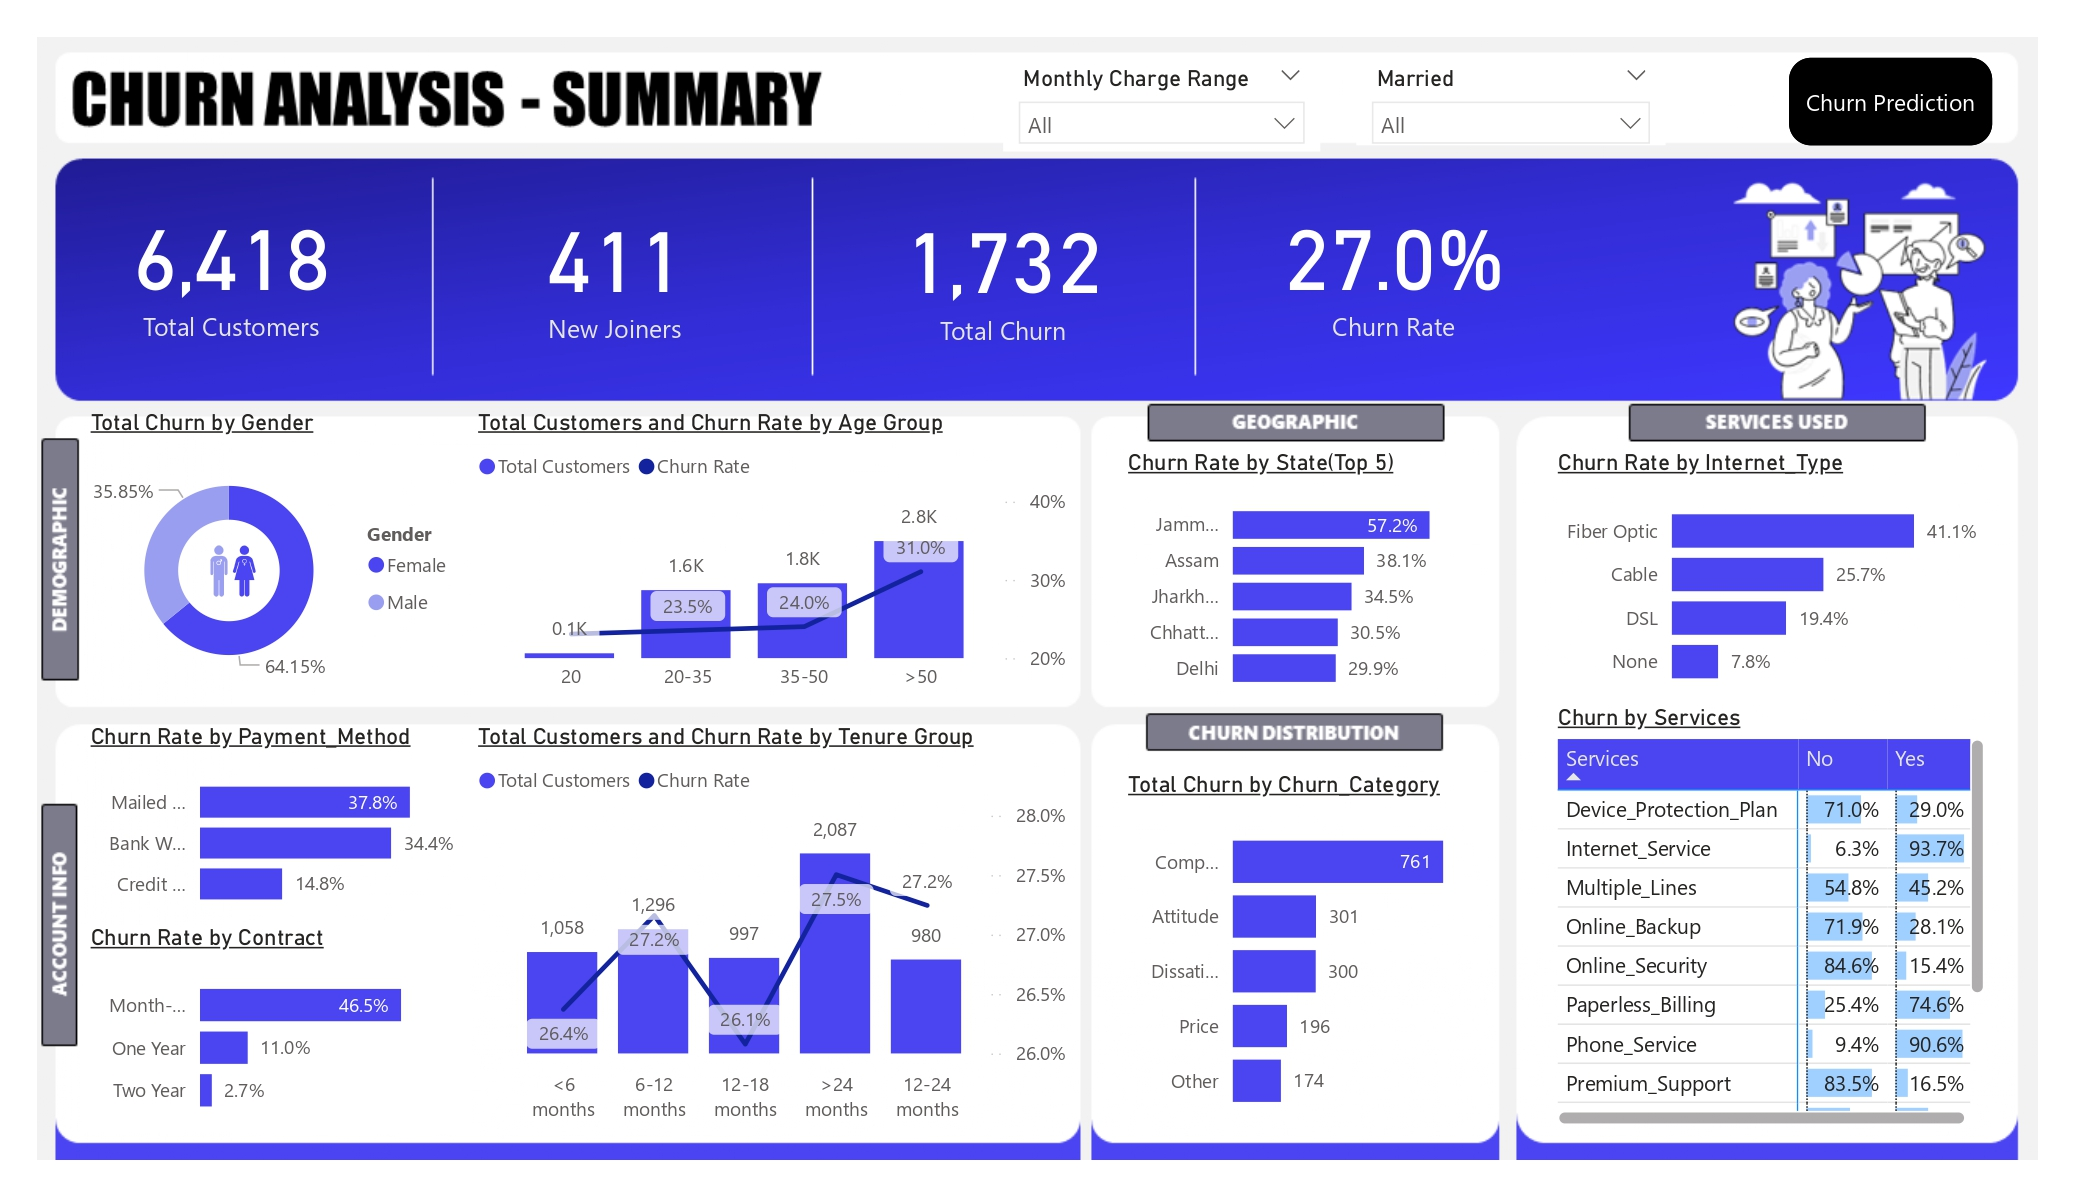

What the dashboard file says about the page in this screenshot:
{"tool":"powerbi","page":{"name":"Summary","canvas":[1280,720],"ordinal":0},"visuals":[{"type":"card","fields":{"Values":["tbl_Measure.Total Customers"]},"box":[0,75.6,247.7,141.3],"z":0},{"type":"card","fields":{"Values":["tbl_Measure.New Joiners"]},"box":[260.3,77,218.3,141.3],"z":1000},{"type":"card","fields":{"Values":["tbl_Measure.Total Churn"]},"box":[520.5,72.8,194.5,151.1],"z":2000},{"type":"card","fields":{"Values":["select","tbl_Measure.Churn Rate"]},"box":[768.2,71.4,200.1,151.1],"z":3000},{"type":"donutChart","fields":{"Category":["prod_Churn.Gender"],"Y":["tbl_Measure.Total Churn"]},"box":[29.4,237.9,247.7,188.9],"z":4000},{"type":"lineStackedColumnComboChart","fields":{"Category":["mapping_AgeGrp.Age Group"],"Y":["tbl_Measure.Total Customers"],"Y2":["tbl_Measure.Churn Rate"]},"box":[277,237.9,386.2,188.9],"z":5000},{"type":"clusteredBarChart","fields":{"Category":["prod_Churn.Payment_Method"],"Y":["tbl_Measure.Churn Rate"]},"box":[29.4,439.4,247.7,128.7],"z":6000},{"type":"clusteredBarChart","fields":{"Category":["prod_Churn.Contract"],"Y":["tbl_Measure.Churn Rate"]},"box":[29.4,568.1,247.7,132.9],"z":7000},{"type":"lineStackedColumnComboChart","fields":{"Category":["mapping_TenureGrp.Tenure Group"],"Y":["tbl_Measure.Total Customers"],"Y2":["tbl_Measure.Churn Rate"]},"box":[277,439.4,386.2,261.7],"z":8000},{"type":"clusteredBarChart","title":"Churn Rate by State(Top 5)","fields":{"Category":["prod_Churn.State"],"Y":["tbl_Measure.Churn Rate"]},"box":[692.6,264.5,236.5,162.3],"z":9000},{"type":"clusteredBarChart","fields":{"Category":["prod_Churn.Churn_Category"],"Y":["tbl_Measure.Total Churn"]},"box":[692.6,470.1,236.5,230.9],"z":10000},{"type":"clusteredBarChart","fields":{"Category":["prod_Churn.Internet_Type"],"Y":["tbl_Measure.Churn Rate"]},"box":[968.3,264.5,282.6,162.3],"z":11000},{"type":"pivotTable","title":"Churn by Services","fields":{"Rows":["prod_Services.Services"],"Columns":["prod_Services.Status"],"Values":["Sum(prod_Services.Churn Status)"]},"box":[968.3,426.8,282.6,274.2],"z":12000},{"type":"slicer","fields":{"Values":["prod_Churn.Monthly Charge Status"]},"box":[618.5,12.6,202.9,60.2],"z":13000},{"type":"image","box":[75.6,314.8,97.9,51.8],"z":14000},{"type":"slicer","fields":{"Values":["prod_Churn.Married"]},"box":[843.7,12.6,198.7,56],"z":15000},{"type":"shape","box":[1120.8,12.6,130.1,56],"z":16000}]}

Visuals, with their boxes on the page's 1280x720 design canvas (x1, y1, x2, y2). These are canvas units, not pixel positions in the 2075x1200 screenshot, which may show the page scaled, cropped or inside an application window:
card - tbl_Measure.Total Customers: (x1=0, y1=76, x2=248, y2=217)
card - tbl_Measure.New Joiners: (x1=260, y1=77, x2=479, y2=218)
card - tbl_Measure.Total Churn: (x1=520, y1=73, x2=715, y2=224)
card - select x tbl_Measure.Churn Rate: (x1=768, y1=71, x2=968, y2=222)
donutChart - prod_Churn.Gender x tbl_Measure.Total Churn: (x1=29, y1=238, x2=277, y2=427)
lineStackedColumnComboChart - mapping_AgeGrp.Age Group x tbl_Measure.Total Customers: (x1=277, y1=238, x2=663, y2=427)
clusteredBarChart - prod_Churn.Payment_Method x tbl_Measure.Churn Rate: (x1=29, y1=439, x2=277, y2=568)
clusteredBarChart - prod_Churn.Contract x tbl_Measure.Churn Rate: (x1=29, y1=568, x2=277, y2=701)
lineStackedColumnComboChart - mapping_TenureGrp.Tenure Group x tbl_Measure.Total Customers: (x1=277, y1=439, x2=663, y2=701)
"Churn Rate by State(Top 5)" clusteredBarChart: (x1=693, y1=264, x2=929, y2=427)
clusteredBarChart - prod_Churn.Churn_Category x tbl_Measure.Total Churn: (x1=693, y1=470, x2=929, y2=701)
clusteredBarChart - prod_Churn.Internet_Type x tbl_Measure.Churn Rate: (x1=968, y1=264, x2=1251, y2=427)
"Churn by Services" pivotTable: (x1=968, y1=427, x2=1251, y2=701)
slicer - prod_Churn.Monthly Charge Status: (x1=618, y1=13, x2=821, y2=73)
image: (x1=76, y1=315, x2=174, y2=367)
slicer - prod_Churn.Married: (x1=844, y1=13, x2=1042, y2=69)
shape: (x1=1121, y1=13, x2=1251, y2=69)
